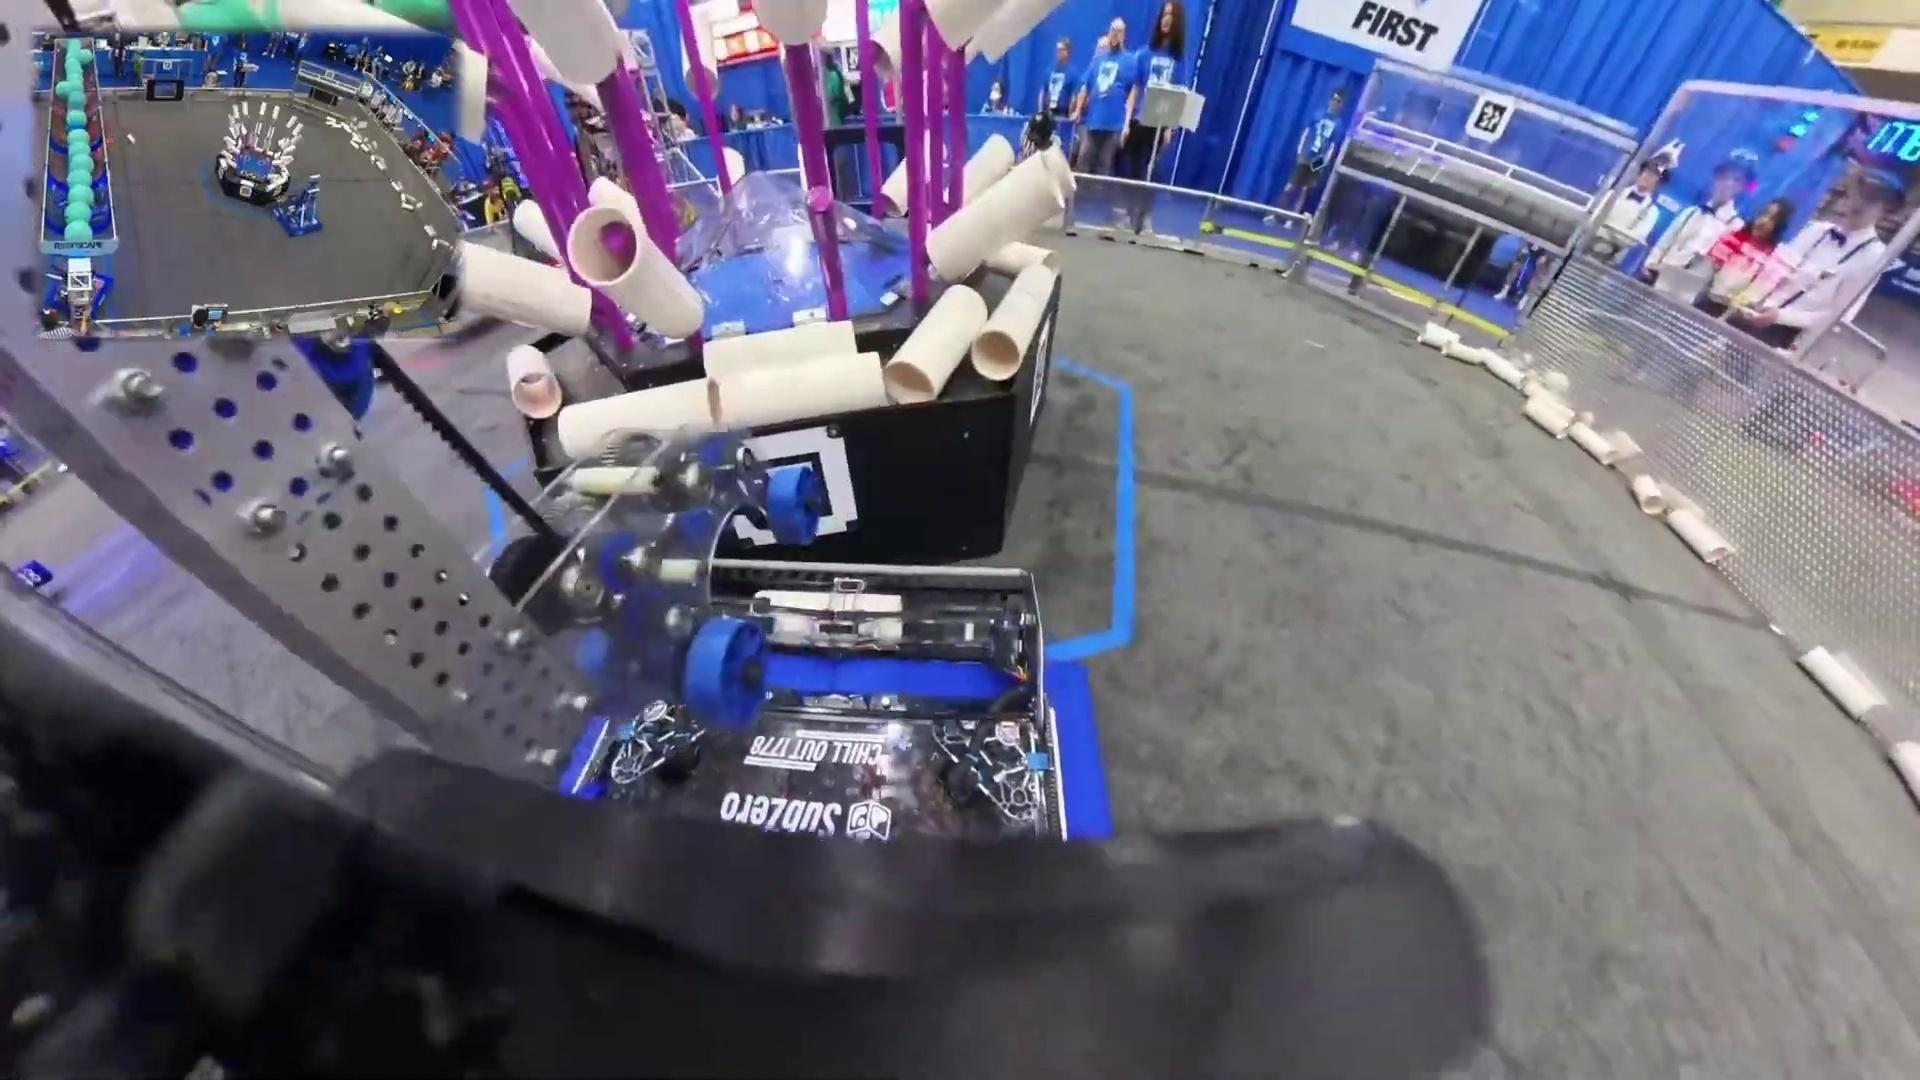robot: (45, 270, 116, 320), (282, 178, 327, 239), (8, 560, 54, 592)
